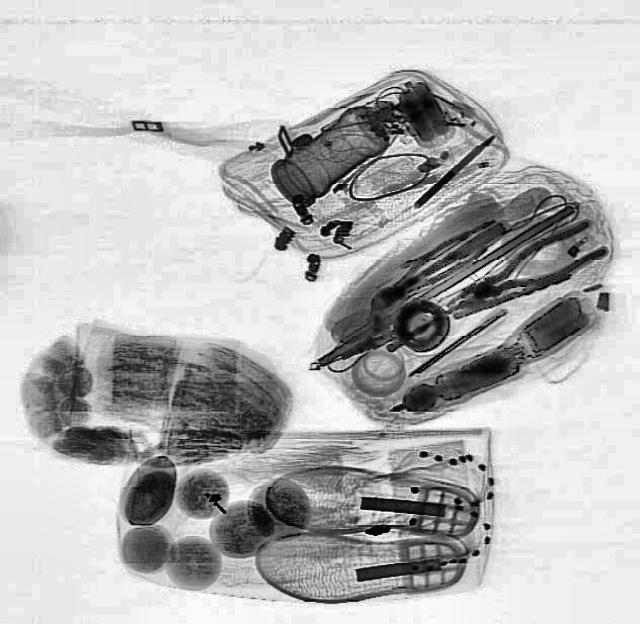Pliers: (436, 214, 610, 330), (358, 210, 510, 320)
